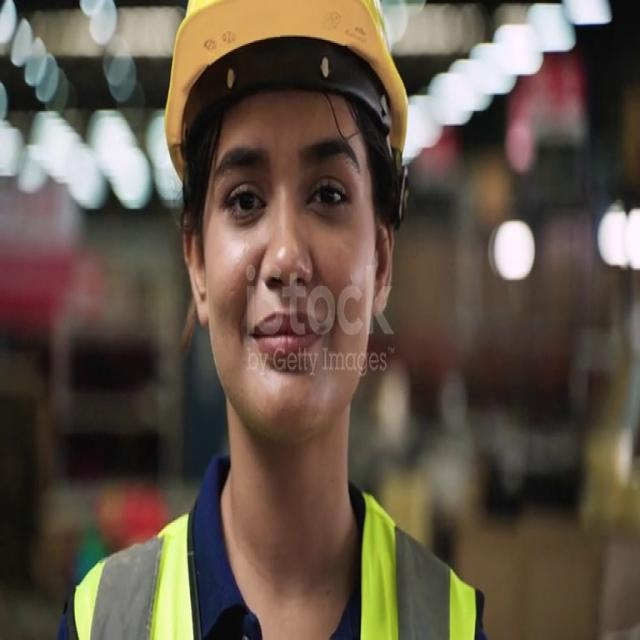capacete: (159, 0, 417, 233)
